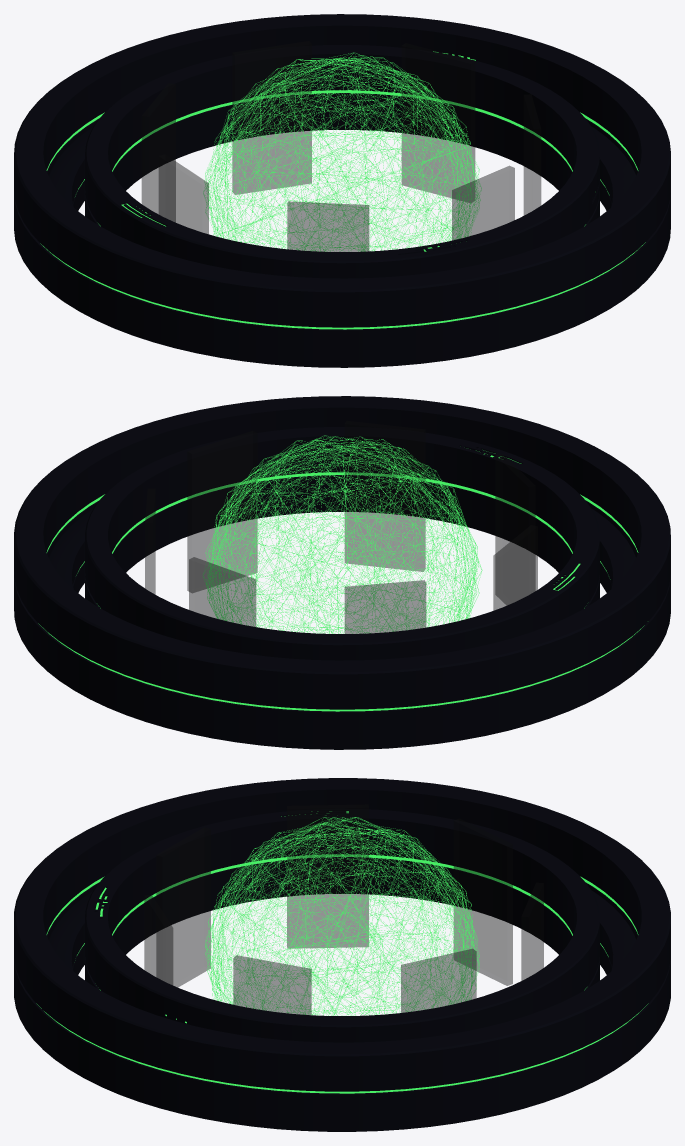
Rendered from дизайнер_точноитогбля.glb.
3 views of the same model, one above another, from view 1: azimuth 30°, elevation 25°; view 2: azimuth 150°, elevation 25°; view 3: azimuth 270°, elevation 25° (orthographic).
Parts seen in each view (by area): view 1: circle, circle1, plast, neuro; view 2: circle, circle1, plast, neuro; view 3: circle, circle1, plast, neuro.
Part boxes in pixels (x1,y1,x2,y2): circle: (14, 14, 670, 367); circle1: (85, 45, 599, 278); plast: (142, 41, 540, 251); neuro: (203, 52, 481, 251); circle: (14, 396, 670, 749); circle1: (85, 427, 599, 660); plast: (145, 421, 537, 633); neuro: (203, 435, 482, 633); circle: (14, 778, 670, 1131); circle1: (85, 808, 599, 1042); plast: (144, 804, 543, 1014); neuro: (205, 817, 479, 1015).
Size of the model in its own units: 3.95 by 1.69 by 3.95.
